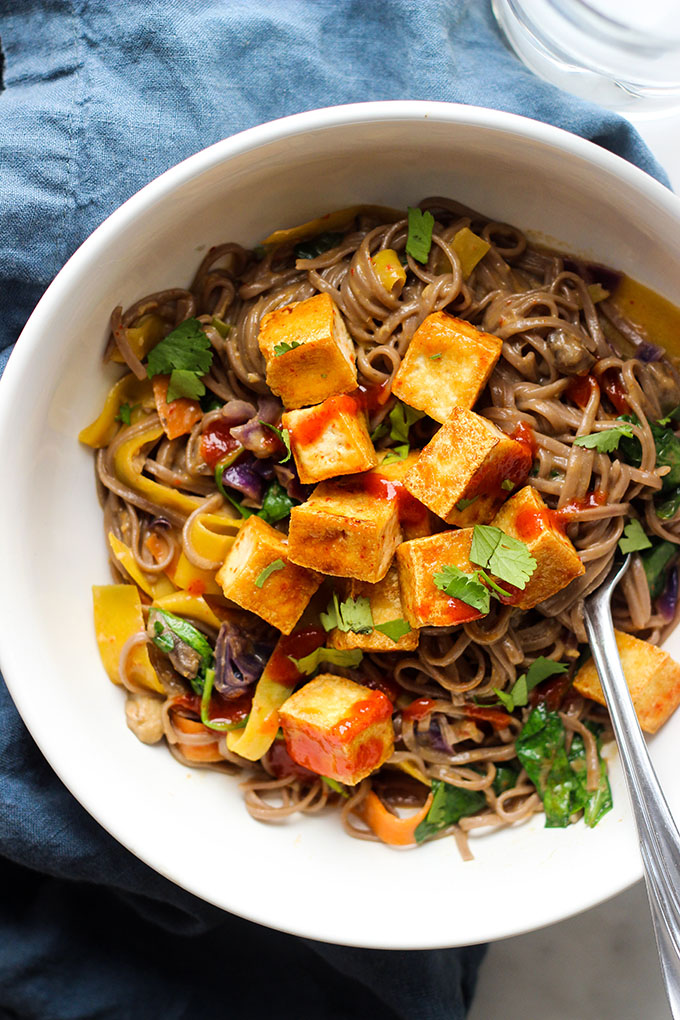Soba: (85, 197, 680, 844)
